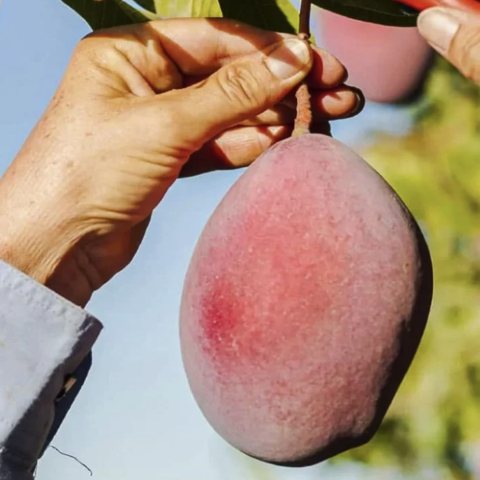mango: (158, 120, 464, 471)
